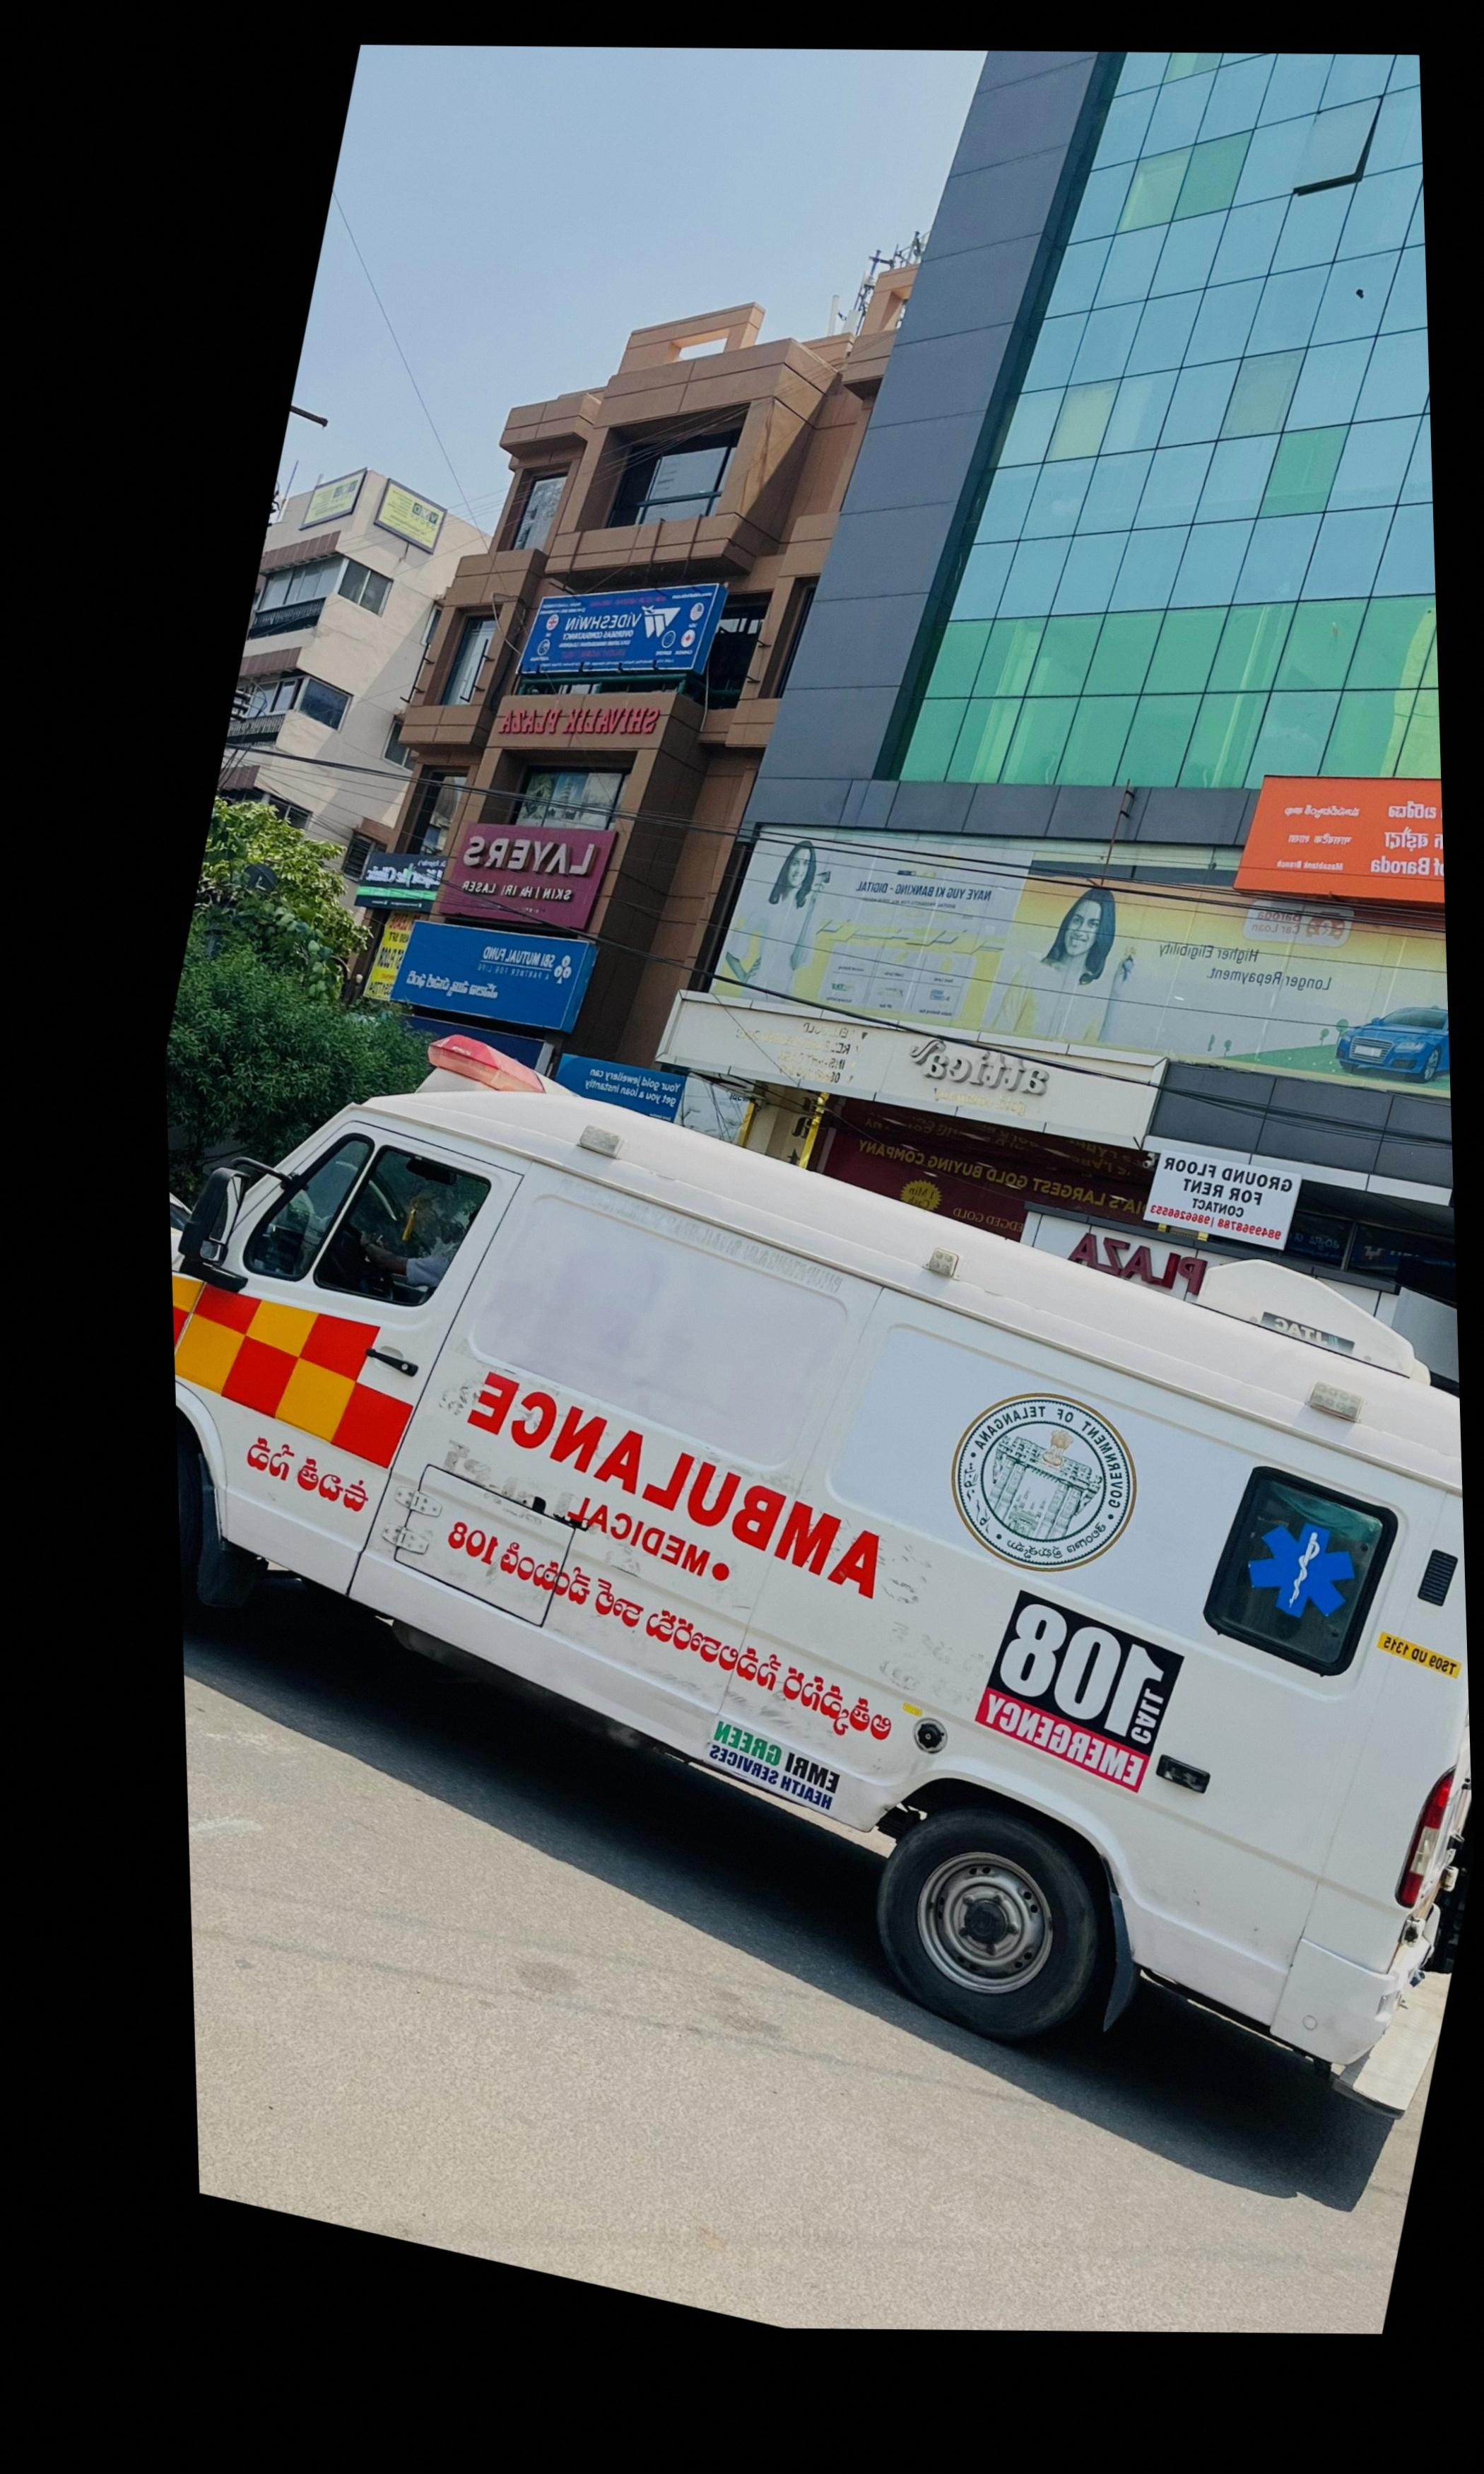ambulance: (173, 1064, 1470, 2089)
